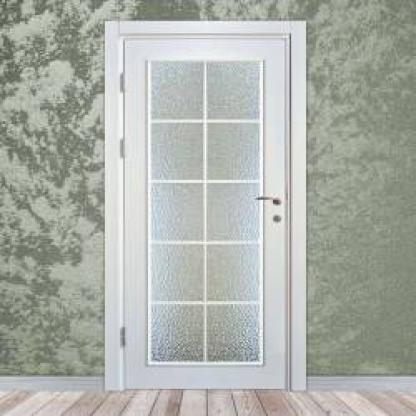door: (122, 38, 284, 389)
